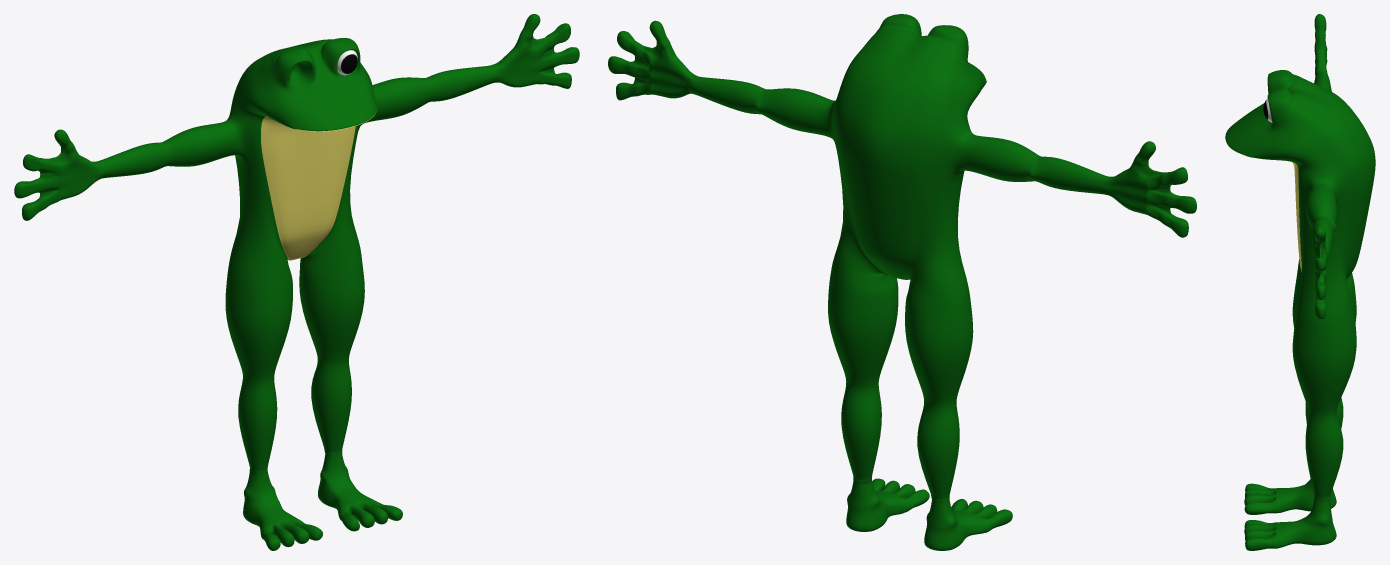
Rendered from Cow.glb.
3 renders of one model, left to right at view 1: azimuth 30°, elevation 25°; view 2: azimuth 150°, elevation 25°; view 3: azimuth 270°, elevation 25°, orthographic. The views are drawn at different scales.
Visible parts, largest first — view 1: Cube; view 2: Cube; view 3: Cube.
Part boxes in pixels (box(x1,y1,x2,y2)): Cube: box(14, 14, 579, 550); Cube: box(608, 14, 1196, 550); Cube: box(1225, 14, 1375, 550).
Bounding box in the file's own units: 15.58 × 12.61 × 3.89.
3 materials, 3 textured.
